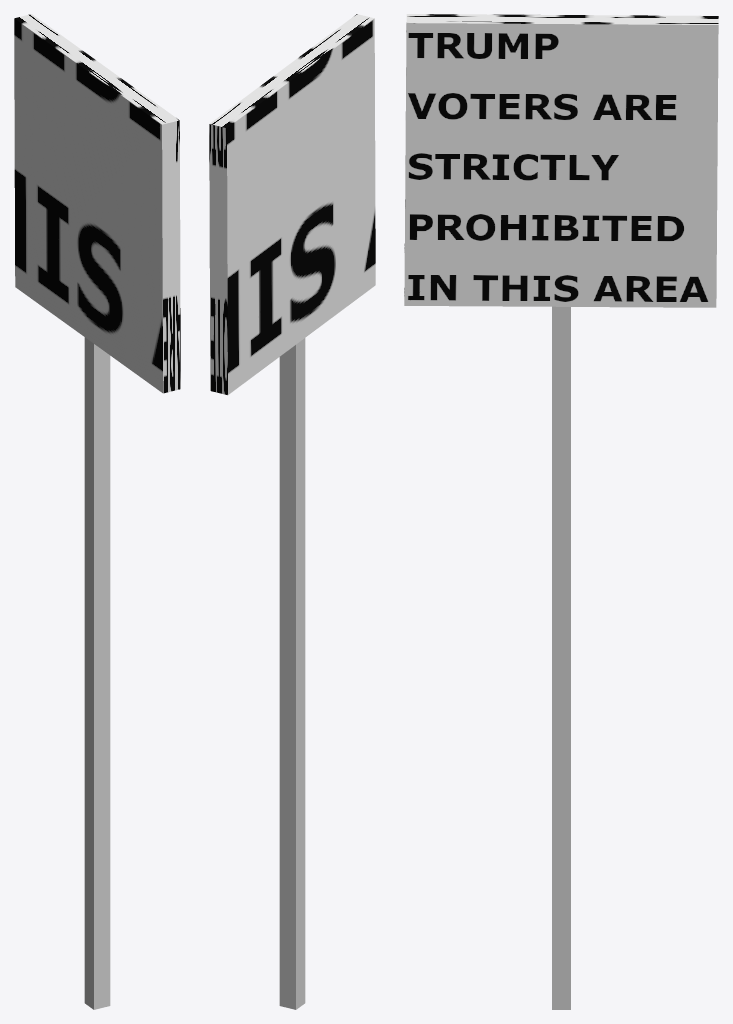
Rendered from antitrump.glb.
3 renders of one model, left to right at view 1: azimuth 30°, elevation 25°; view 2: azimuth 150°, elevation 25°; view 3: azimuth 270°, elevation 25°, orthographic. The views are drawn at different scales.
Parts seen in each view (by area): view 1: Cube.001, Cube; view 2: Cube.001, Cube; view 3: Cube.001, Cube.
Part boxes in pixels (x1,y1,x2,y2): Cube.001: (14, 14, 180, 393); Cube: (84, 337, 110, 1009); Cube.001: (209, 14, 375, 395); Cube: (279, 338, 305, 1009); Cube.001: (404, 14, 718, 307); Cube: (552, 306, 570, 1009).
Size of the model in its own units: 0.1384 by 6.98 by 2.01.
Materials: 2 (1 with a texture image).
